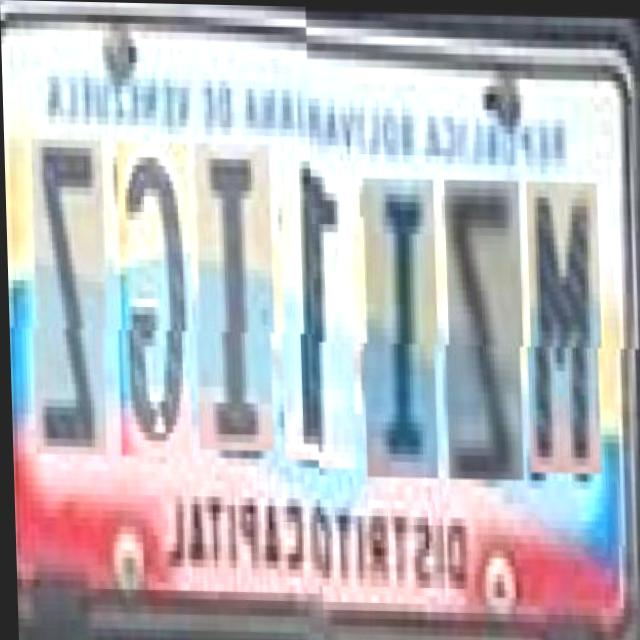1: (276, 159, 354, 467)
g: (112, 148, 190, 465)
i: (191, 150, 272, 458), (357, 176, 435, 476)
m: (521, 178, 599, 472)
z: (26, 147, 105, 463), (440, 177, 521, 477)
